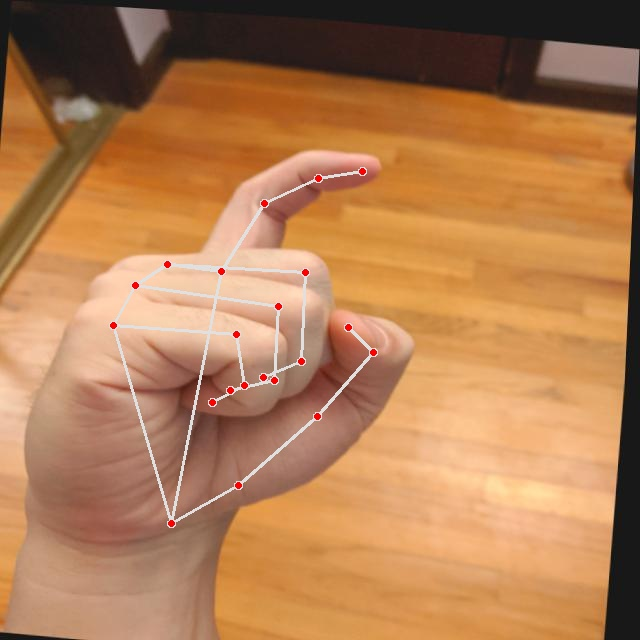X: (10, 114, 441, 566)
